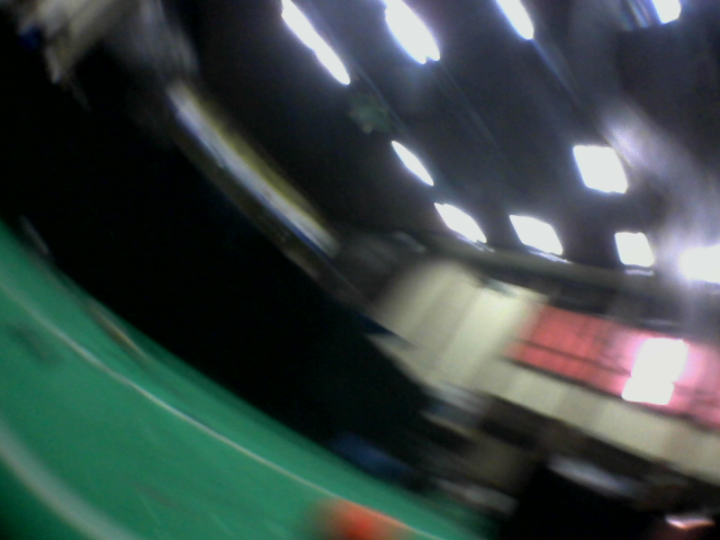bola: (314, 492, 382, 540)
